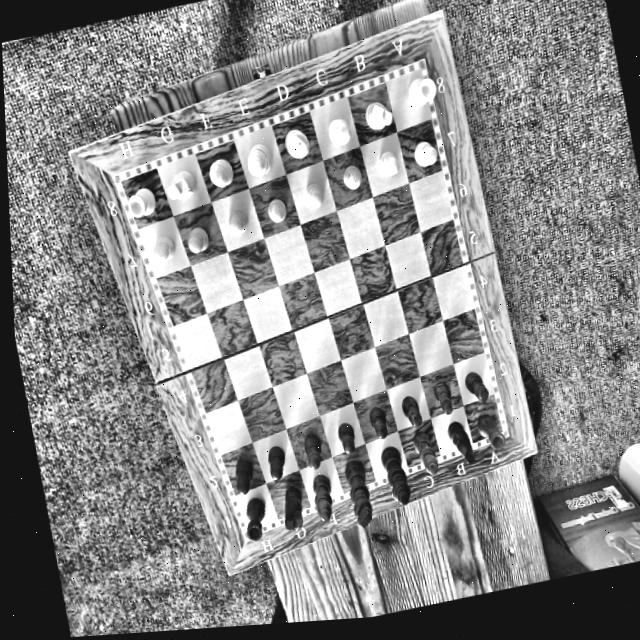black-bishop: (409, 425, 441, 480), (308, 470, 338, 524)
black-king: (339, 457, 377, 532)
black-knight: (441, 411, 483, 468), (276, 481, 309, 532)
black-pawn: (260, 441, 293, 484), (227, 455, 259, 496), (298, 430, 328, 472), (430, 376, 458, 420), (462, 366, 492, 406), (332, 417, 361, 458), (364, 401, 391, 445), (399, 390, 424, 432)
black-queen: (378, 442, 412, 511)
black-rook: (237, 494, 273, 543), (473, 406, 508, 453)
white-bishop: (204, 151, 238, 192), (322, 112, 357, 150)
white-king: (279, 121, 315, 162)
white-knight: (161, 163, 201, 206), (359, 90, 397, 135)
white-pawn: (411, 131, 441, 170), (149, 231, 178, 266), (182, 221, 210, 256), (302, 176, 328, 210), (340, 159, 366, 193), (224, 204, 251, 236), (377, 146, 402, 180), (265, 193, 289, 228)
white-queen: (241, 137, 278, 183)
white-rook: (402, 64, 444, 116), (121, 181, 160, 221)
